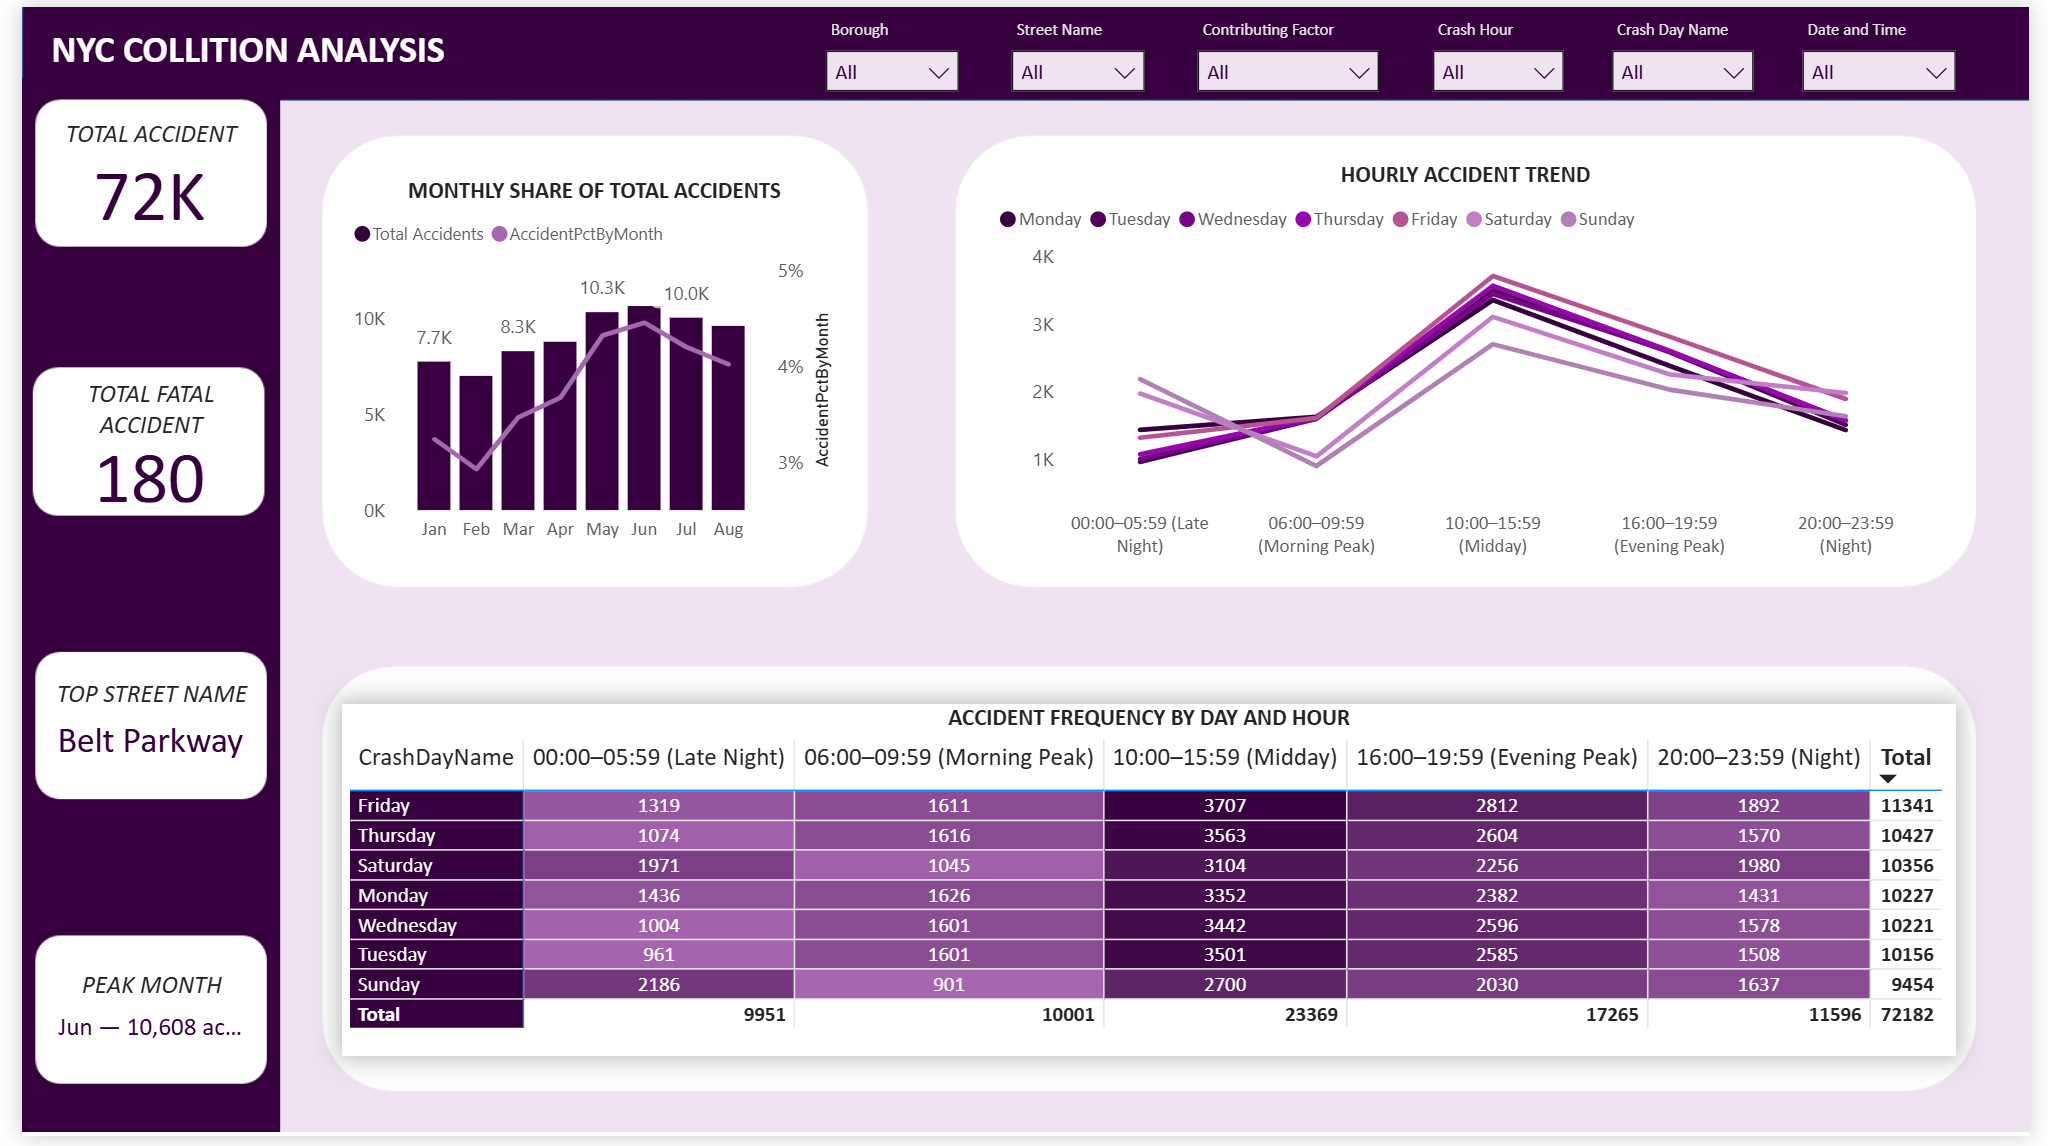

Layout of this report page (visuals, bound fields, positions):
{"tool":"powerbi","page":{"name":"VISUAL 1","canvas":[1280,720],"ordinal":0},"visuals":[{"type":"lineClusteredColumnComboChart","title":"MONTHLY SHARE OF TOTAL  ACCIDENTS","fields":{"Category":["NYC_Collisions.CrashMonthName"],"Y":["Measure_Load.Total Accidents"],"Y2":["Measure_Load.AccidentPctByMonth"]},"box":[205.4,106.9,317,243.8],"z":0},{"type":"lineChart","title":" HOURLY ACCIDENT TREND","fields":{"Y":["Measure_Load.AccidentCount"],"Series":["NYC_Collisions.CrashDayName"],"Category":["NYC_Collisions.HourBand"]},"box":[617.3,97.3,605.3,263],"z":1000},{"type":"pivotTable","title":"ACCIDENT FREQUENCY BY DAY AND HOUR","fields":{"Rows":["NYC_Collisions.CrashDayName"],"Columns":["NYC_Collisions.HourBand"],"Values":["Measure_Load.AccidentCount"]},"box":[204.6,444.8,1029.1,224.5],"z":2000},{"type":"card","title":"TOTAL ACCIDENT","fields":{"Values":["Measure_Load.Total Accidents"]},"box":[18.3,70,125.8,73.3],"z":3000},{"type":"card","title":"TOTAL FATAL ACCIDENT","fields":{"Values":["Measure_Load.FatalAccidentCount"]},"box":[18.3,235.8,125.8,86.7],"z":4000},{"type":"card","title":"TOP STREET NAME","fields":{"Values":["Measure_Load.TopStreetName"]},"box":[12.5,426.7,138.3,65.8],"z":5000},{"type":"card","title":"PEAK MONTH","fields":{"Values":["Measure_Load.PeakMonthSummary"]},"box":[15,612.5,132.5,62.5],"z":6000},{"type":"slicer","title":"Borough","fields":{"Values":["NYC_Collisions.Borough"]},"box":[502.2,2.2,104.4,58.9],"z":7000},{"type":"textbox","box":[8.9,7.8,271.1,45.6],"z":8000},{"type":"slicer","title":"Borough","fields":{"Values":["NYC_Collisions.Street Name"]},"box":[621.1,2.2,104.4,58.9],"z":9000},{"type":"slicer","title":"Borough","fields":{"Values":["NYC_Collisions.Contributing Factor"]},"box":[740,2.2,135.6,58.9],"z":10000},{"type":"slicer","title":"Borough","fields":{"Values":["NYC_Collisions.CrashHour"]},"box":[890,3.3,103.3,58.9],"z":11000},{"type":"slicer","title":"Borough","fields":{"Values":["NYC_Collisions.CrashDayName"]},"box":[1004.4,2.2,110,58.9],"z":12000},{"type":"slicer","title":"Borough","fields":{"Values":["NYC_Collisions.Date","NYC_Collisions.Date.Variation.Date Hierarchy.Year","NYC_Collisions.Date.Variation.Date Hierarchy.Month","NYC_Collisions.Date.Variation.Date Hierarchy.Day"]},"box":[1125.6,2.2,117.8,58.9],"z":13000}]}

Visuals, with their boxes in screenshot pixels (x1, y1, x2, y2), scaled from the page's 1280x720 canvas onto the 2048x1146 screenshot:
"MONTHLY SHARE OF TOTAL  ACCIDENTS" lineClusteredColumnComboChart: select_region(329, 170, 836, 558)
" HOURLY ACCIDENT TREND" lineChart: select_region(988, 155, 1956, 573)
"ACCIDENT FREQUENCY BY DAY AND HOUR" pivotTable: select_region(327, 708, 1974, 1065)
"TOTAL ACCIDENT" card: select_region(29, 111, 231, 228)
"TOTAL FATAL ACCIDENT" card: select_region(29, 375, 231, 513)
"TOP STREET NAME" card: select_region(20, 679, 241, 784)
"PEAK MONTH" card: select_region(24, 975, 236, 1074)
"Borough" slicer: select_region(804, 4, 971, 97)
textbox: select_region(14, 12, 448, 85)
"Borough" slicer: select_region(994, 4, 1161, 97)
"Borough" slicer: select_region(1184, 4, 1401, 97)
"Borough" slicer: select_region(1424, 5, 1589, 99)
"Borough" slicer: select_region(1607, 4, 1783, 97)
"Borough" slicer: select_region(1801, 4, 1989, 97)
